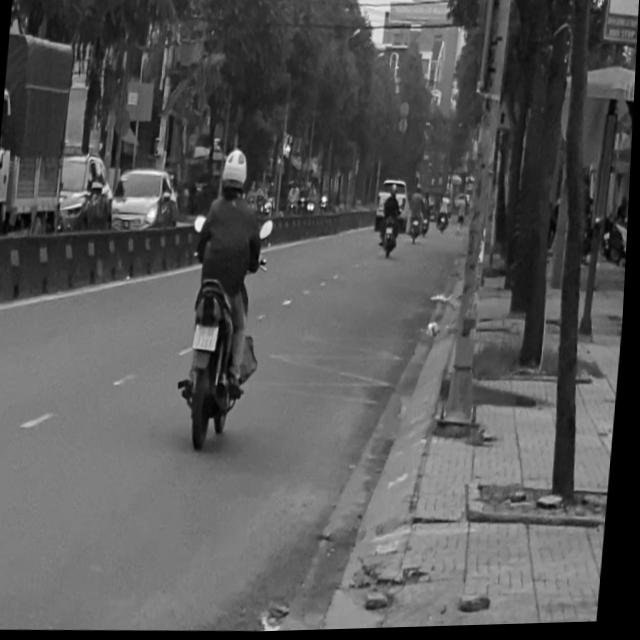helmet: (218, 147, 250, 196)
licenseplate: (174, 144, 276, 448)
nohelmet: (195, 324, 219, 349)
